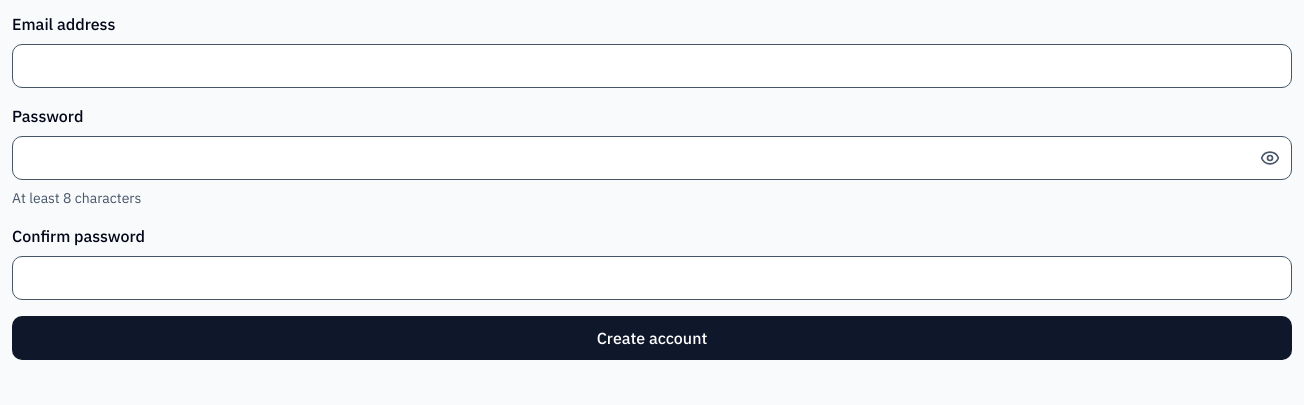
it: SignUpForm › blocks a mismatch on the client and announces it on the confirm field
Type "a@example.com" into the field labelled "Email address" at x=652, y=66, box [12,44,1292,88]
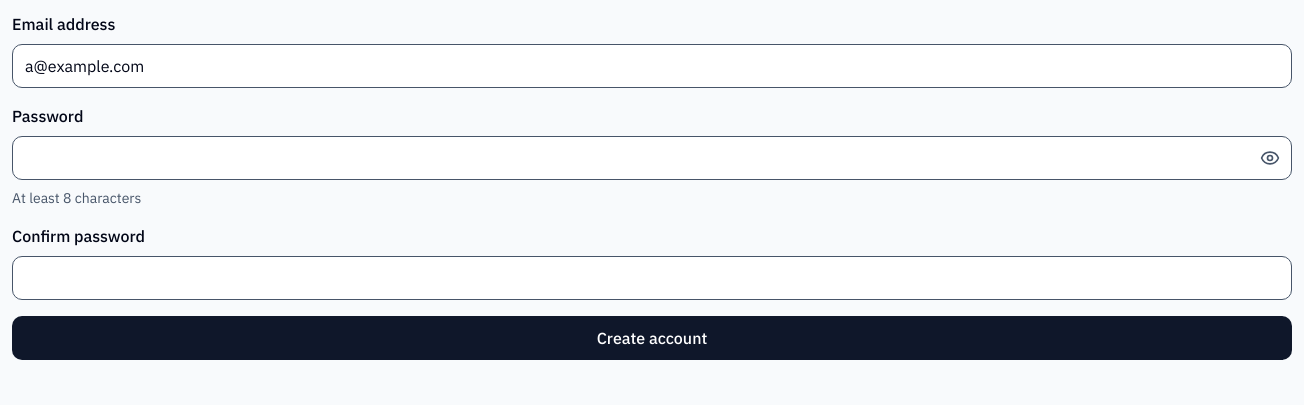
Type "long-enough-pw" into the password field labelled "Password" at x=652, y=158, box [12,136,1292,180]
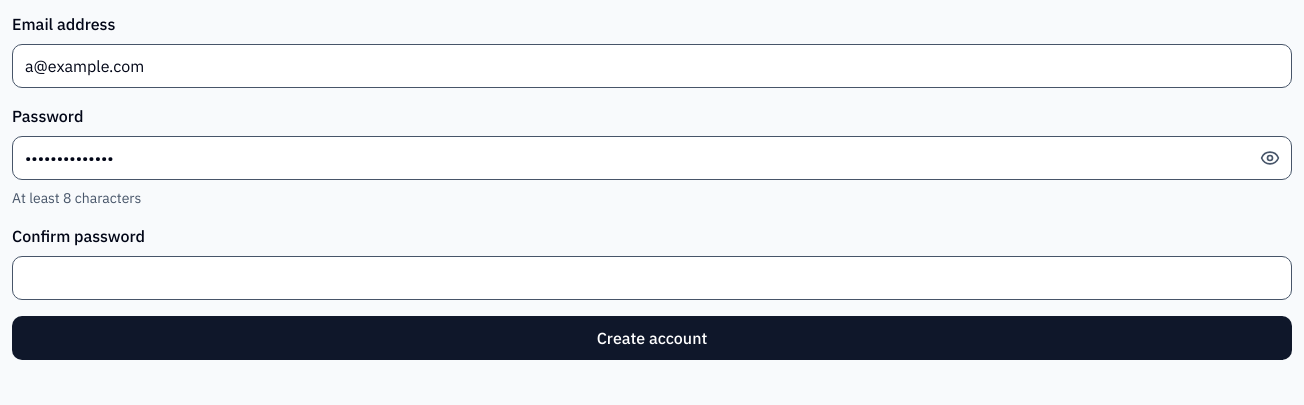
Type "something-else" into the password field labelled "Confirm password" at x=652, y=278, box [12,256,1292,300]
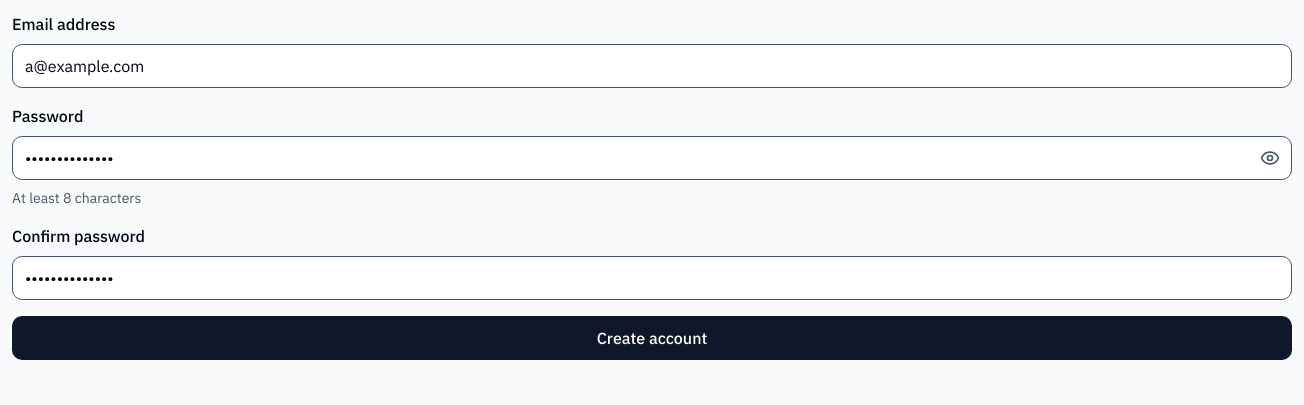
Click the button "Create account" at x=652, y=338, box [12,316,1292,360]
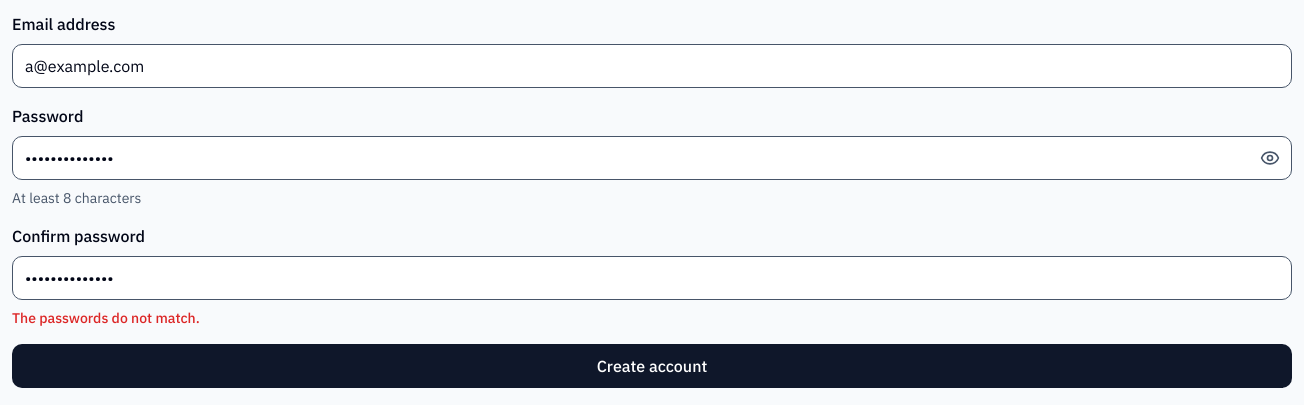
Check: the message reads "The passwords do not match.", box [12,309,200,327]
